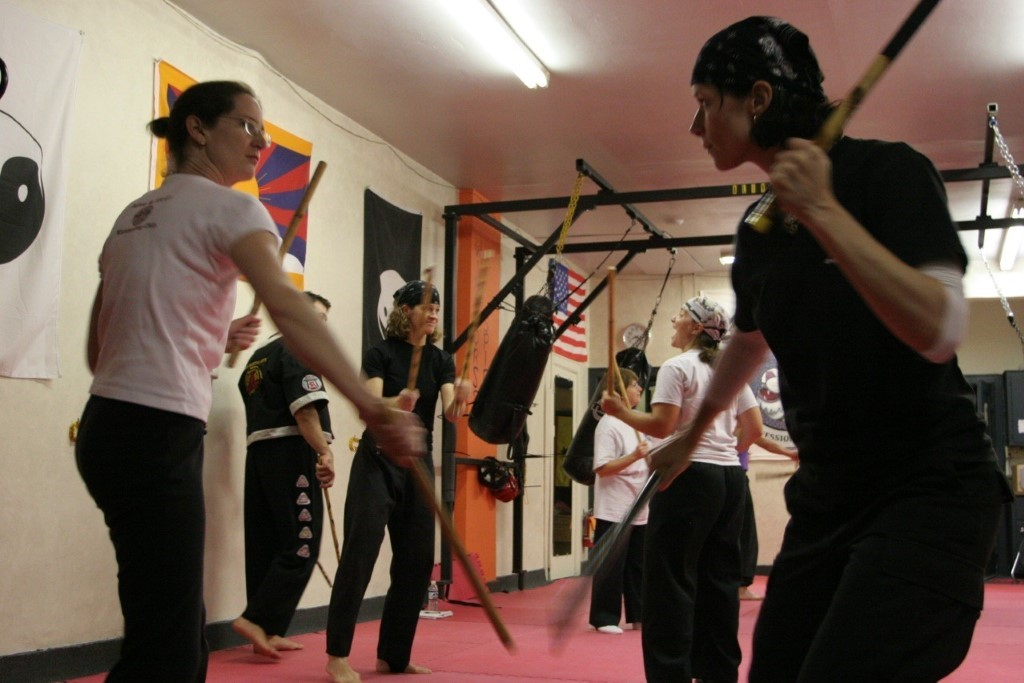baston_e: (748, 5, 932, 208), (403, 469, 511, 647), (228, 171, 323, 356), (562, 472, 657, 624), (450, 263, 491, 409), (405, 272, 437, 388), (603, 272, 618, 399), (617, 365, 640, 442), (320, 487, 343, 558), (312, 565, 334, 586)
baston_v: (734, 201, 784, 239), (535, 616, 578, 653), (314, 152, 332, 174), (448, 405, 463, 422), (504, 638, 518, 654), (423, 263, 441, 275), (221, 357, 235, 372), (605, 261, 620, 275), (479, 248, 492, 264), (312, 449, 325, 465)
